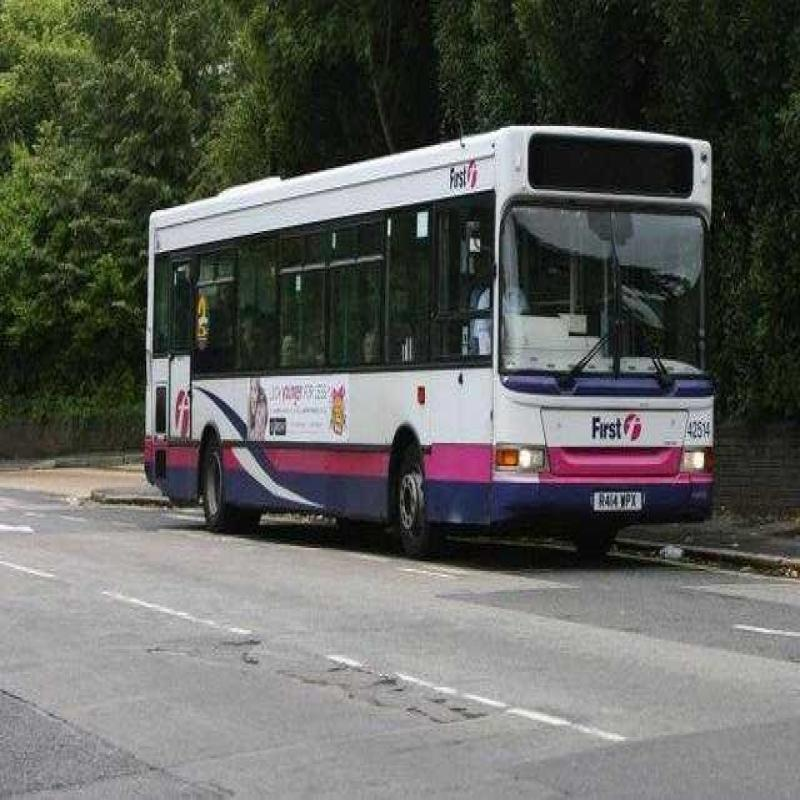bus: (141, 94, 766, 585)
